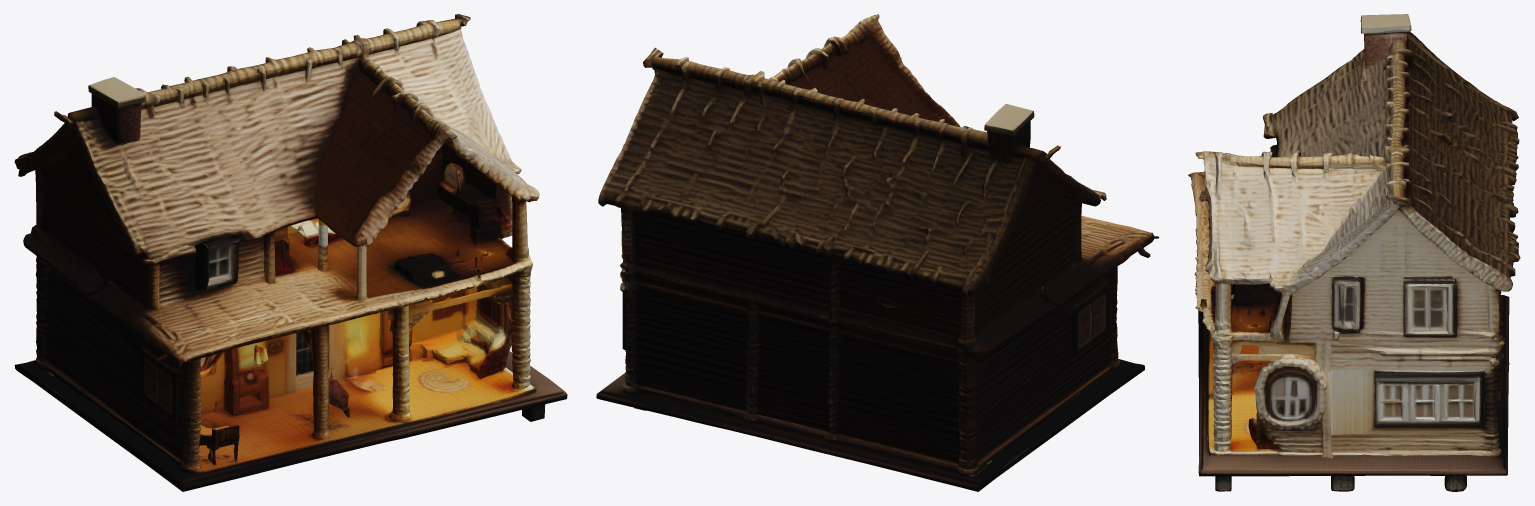
Rendered from woven-seagrass-dollhouse-vintage.jpeg.glb.
The picture shows the model from 3 angles, left to right: view 1: azimuth 30°, elevation 25°; view 2: azimuth 150°, elevation 25°; view 3: azimuth 270°, elevation 25°; orthographic projection. The views are drawn at different scales.
Parts seen in each view (by area): view 1: world; view 2: world; view 3: world.
Boxes of the visible parts, x1,y1,x2,y2 form: world: (14, 14, 567, 491); world: (596, 14, 1158, 491); world: (1188, 14, 1520, 491).
Bounding box in the file's own units: 0.9935 × 0.8054 × 0.7591.
Materials: 1 (1 with a texture image).
